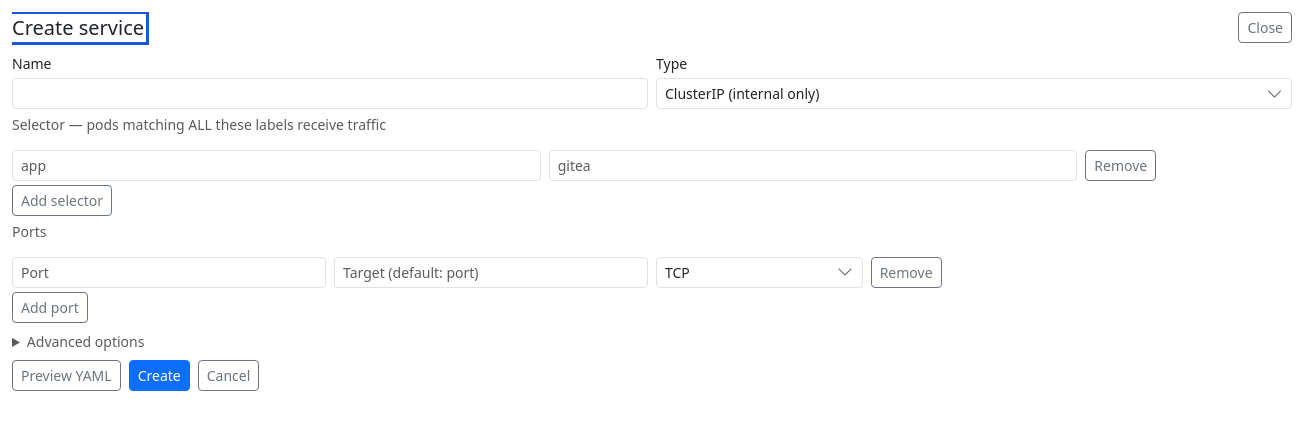
Scenario: ServiceCreate — validation › requires at least one port
This screenshot has width=1304, height=436.
Type "web" into the field with id "svc-name". click: coordinates (330, 94)
box: [12,78,648,109]
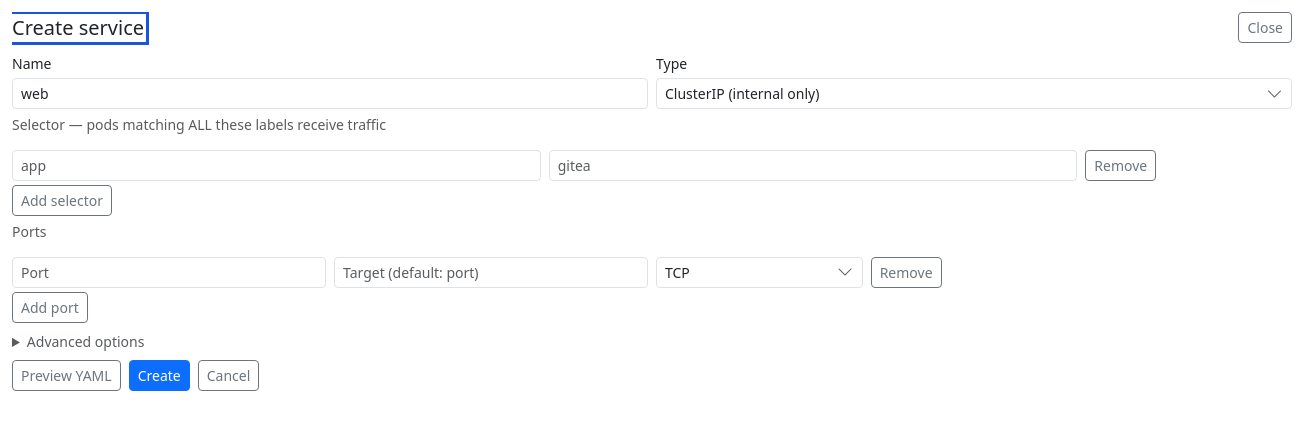
Click the button "Create". click: coordinates (159, 375)
box: [129,360,190,391]
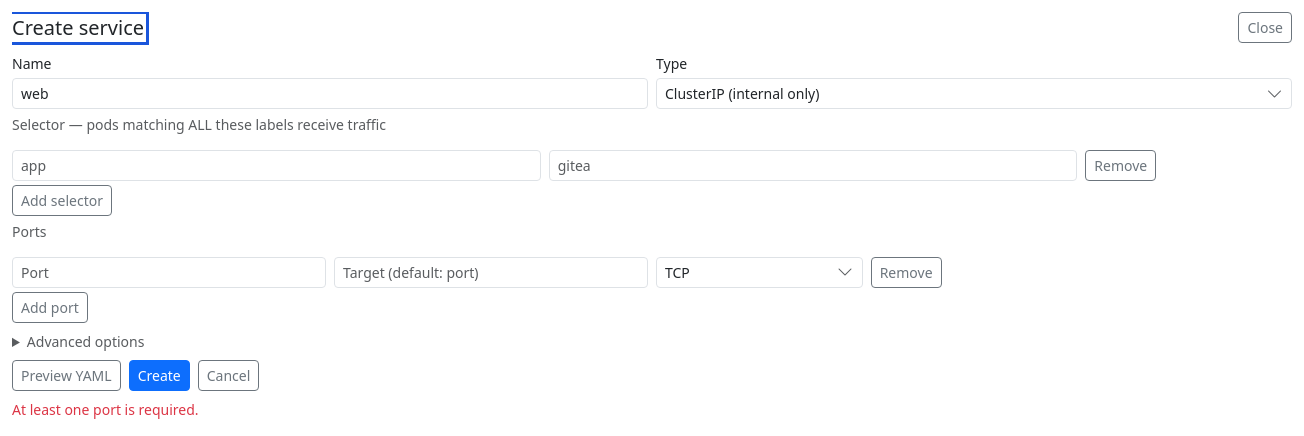
Expected: the message "At least one port is required." is shown, [12,400,199,419]
